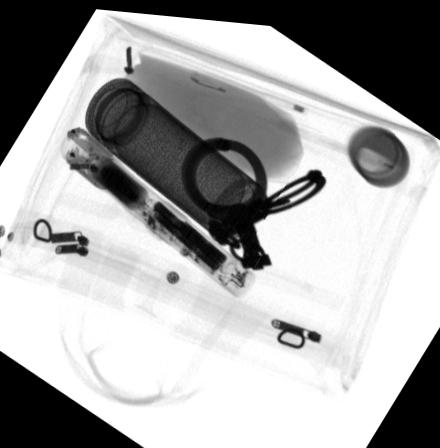Baton: (64, 123, 258, 293)
HandCuffs: (180, 132, 328, 267)
